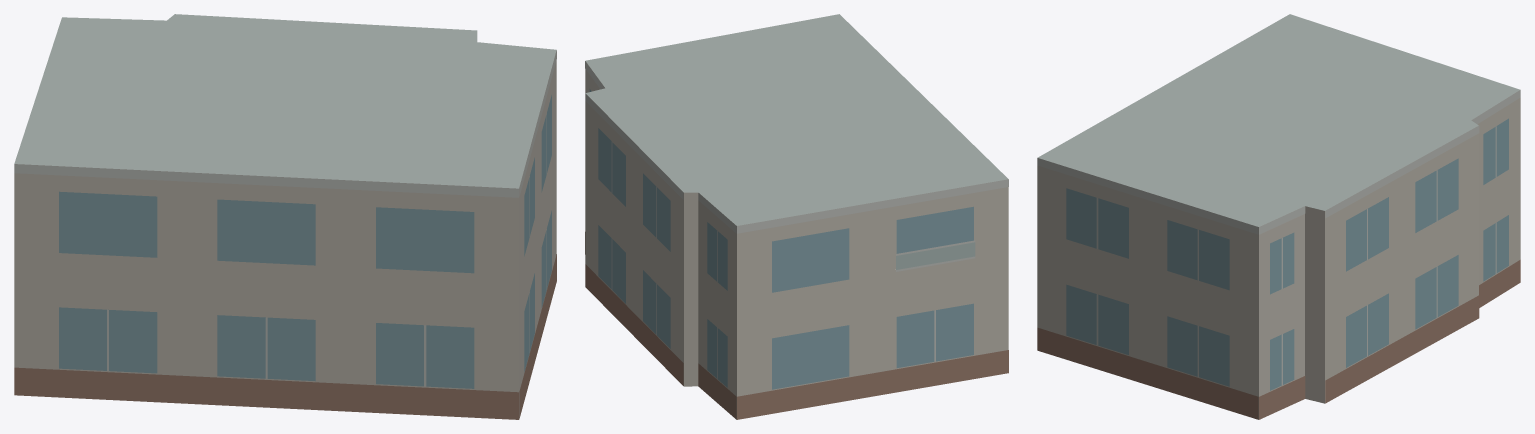
Rendered from survey-upis-32659446.glb.
The picture shows the model from 3 angles, left to right: view 1: azimuth 30°, elevation 25°; view 2: azimuth 150°, elevation 25°; view 3: azimuth 270°, elevation 25°; orthographic projection. The views are drawn at different scales.
Parts seen in each view (by area): view 1: survey-upis-32659446.tmp; view 2: survey-upis-32659446.tmp; view 3: survey-upis-32659446.tmp.
Boxes of the visible parts, x1,y1,x2,y2 form: survey-upis-32659446.tmp: (14, 14, 556, 419); survey-upis-32659446.tmp: (585, 14, 1008, 419); survey-upis-32659446.tmp: (1037, 14, 1520, 419).
Bounding box in the file's own units: 14.47 × 6.1 × 13.87.
